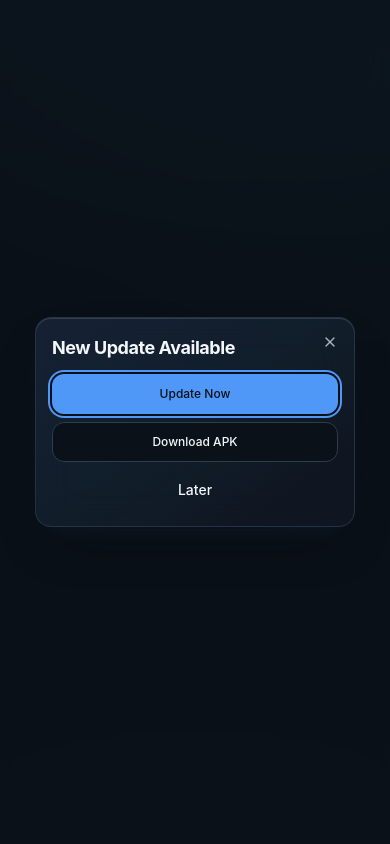
AppUpdateManager › downloads a verified APK to Downloads only when selected and never starts installation
Later steps or results of the test are not shown.
Expected: the heading "New Update Available" is shown, [52,337,235,358]
Click the button "Download APK".
click(195, 442)  # box [52,422,338,462]
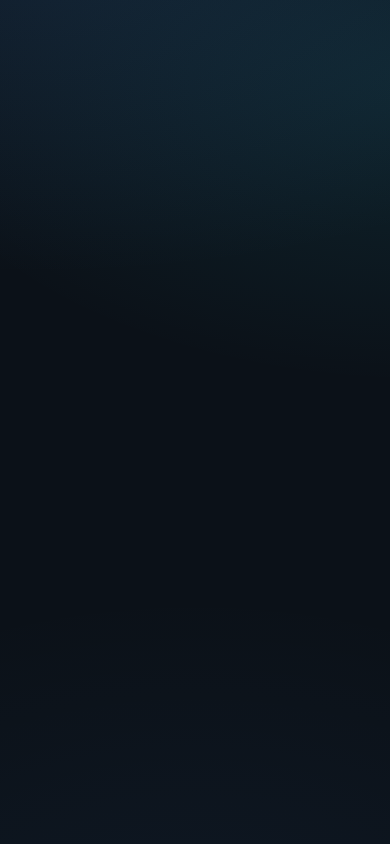
Expected: the heading "New Update Available" is gone
